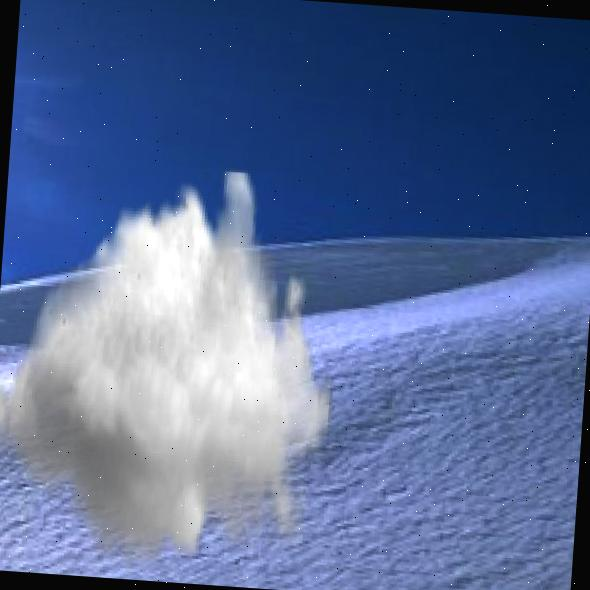smoke: (0, 154, 347, 581)
